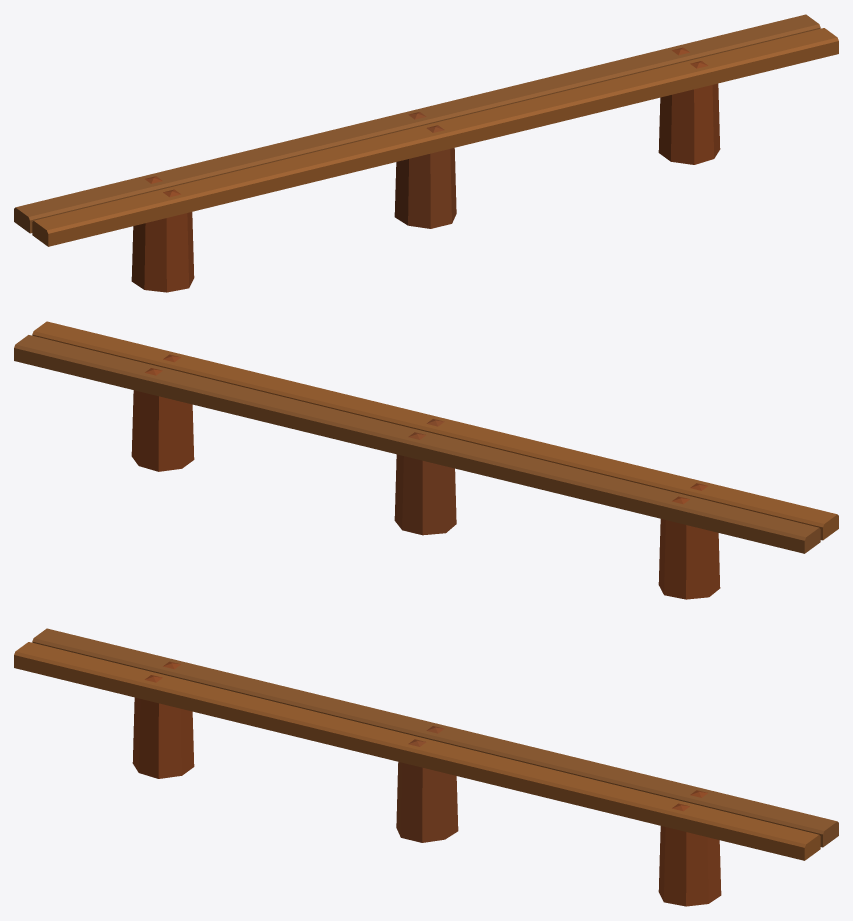
Rendered from amphitheatre-bench-row-d72422.glb.
3 views of the same model, one above another, from view 1: azimuth 30°, elevation 25°; view 2: azimuth 150°, elevation 25°; view 3: azimuth 330°, elevation 25° (orthographic).
Visible parts, largest first — view 1: bench; view 2: bench; view 3: bench.
Boxes of the visible parts, x1=… form: bench: x1=14, y1=14, x2=838, y2=292; bench: x1=14, y1=321, x2=838, y2=599; bench: x1=14, y1=628, x2=838, y2=906.
Size of the model in its own units: 4 by 0.46 by 0.3.
